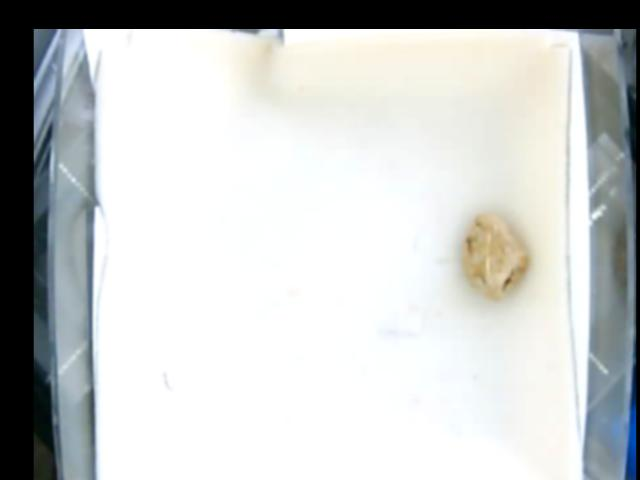Pebble: (462, 209, 532, 301)
